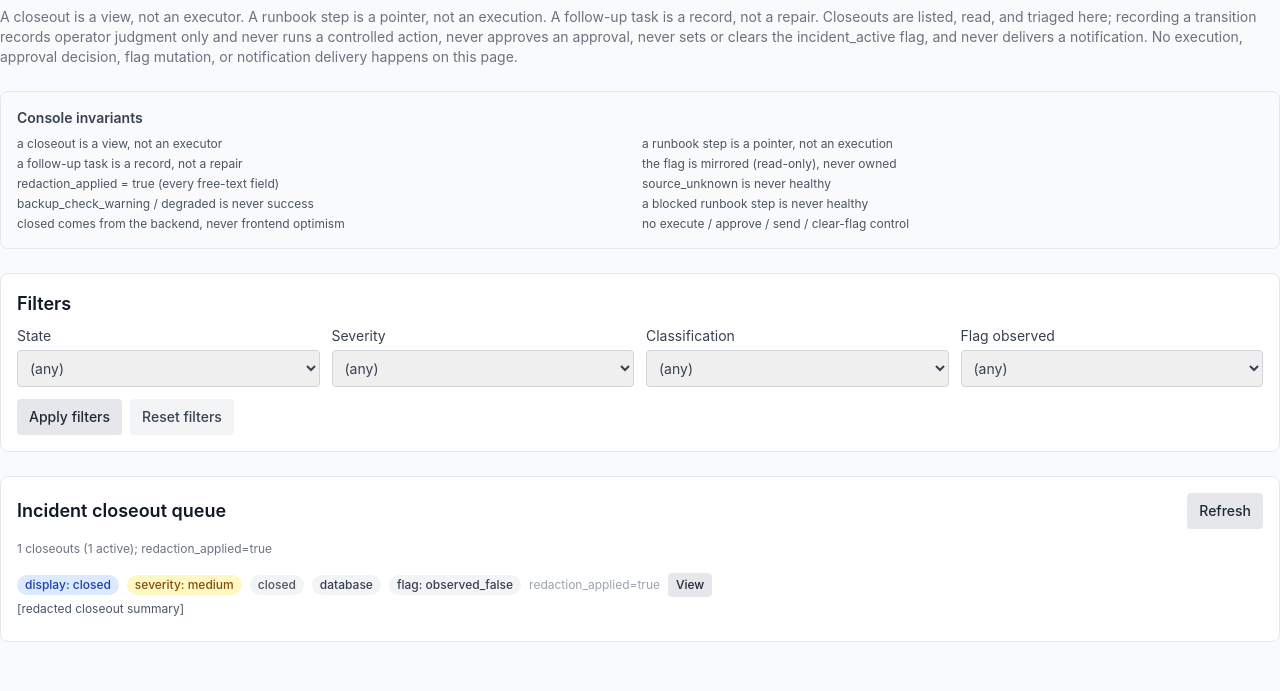
PlatformIncidentCloseoutsPage › a terminal closeout shows no transition controls
Expected: the list item with test id "ic-queue-item" is shown, [17, 573, 712, 616]
Click the button with test id "ic-view-btn". click: (690, 585)
box: [668, 573, 712, 597]
(page scrolled)
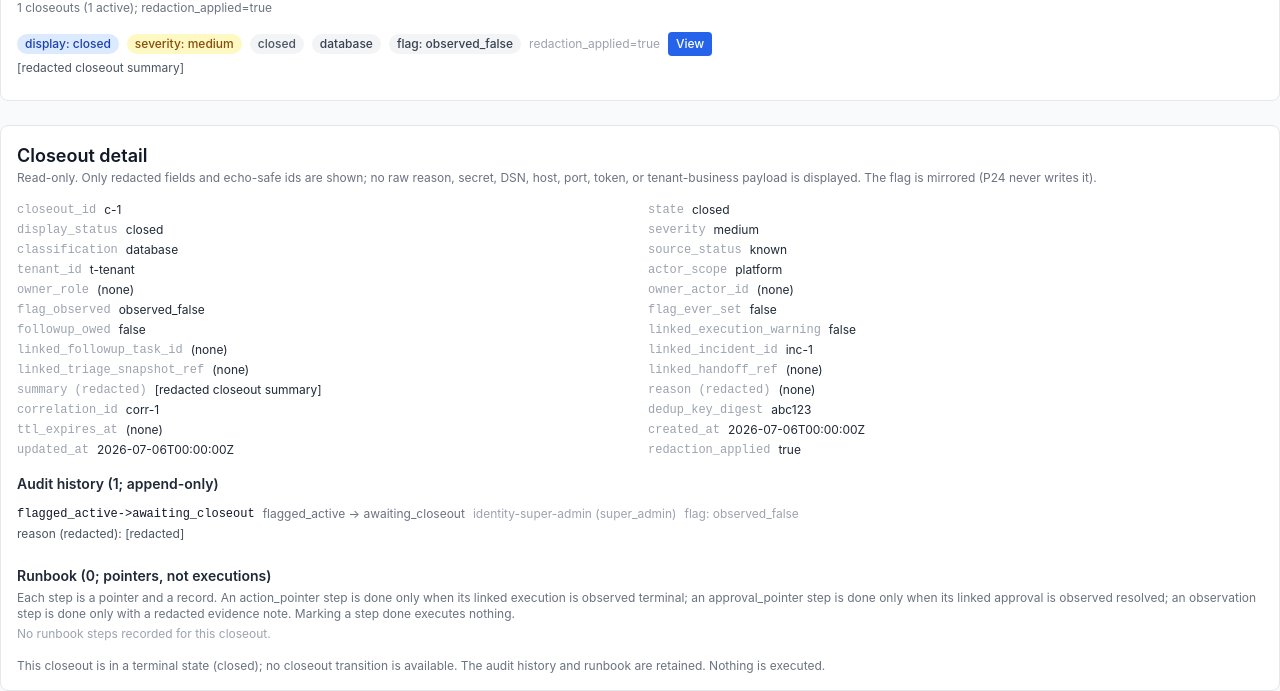
Expected: the element with test id "ic-detail" is shown
Expected: the text with test id "ic-terminal-note" is shown, [17, 658, 825, 673]
